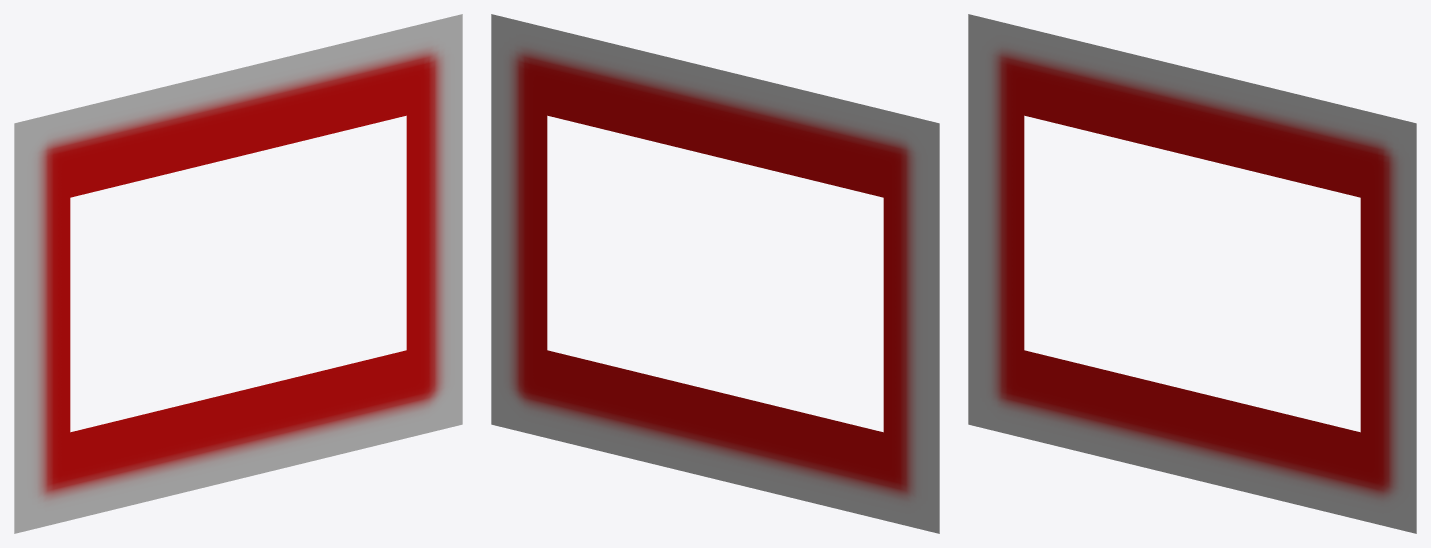
File: wall_window_400x350_06.fbx
3 views of the same model, side by side, from view 1: azimuth 30°, elevation 25°; view 2: azimuth 150°, elevation 25°; view 3: azimuth 330°, elevation 25° (orthographic).
Visible parts, largest first — view 1: wall_window_400x350_06; view 2: wall_window_400x350_06; view 3: wall_window_400x350_06.
Part boxes in pixels (<box>): wall_window_400x350_06: <box>14,14,462,533</box>; wall_window_400x350_06: <box>491,14,939,533</box>; wall_window_400x350_06: <box>968,14,1416,533</box>.
Size of the model in its own units: 4 by 3.5 by 0.
